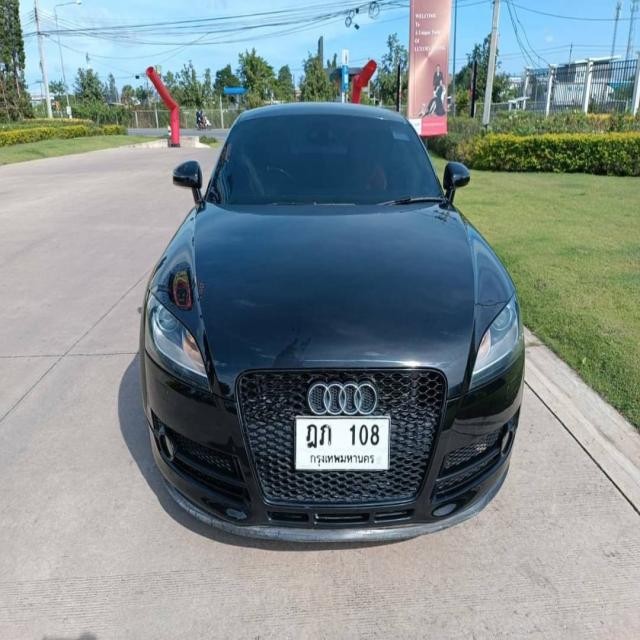license_plate: (294, 415, 391, 471)
